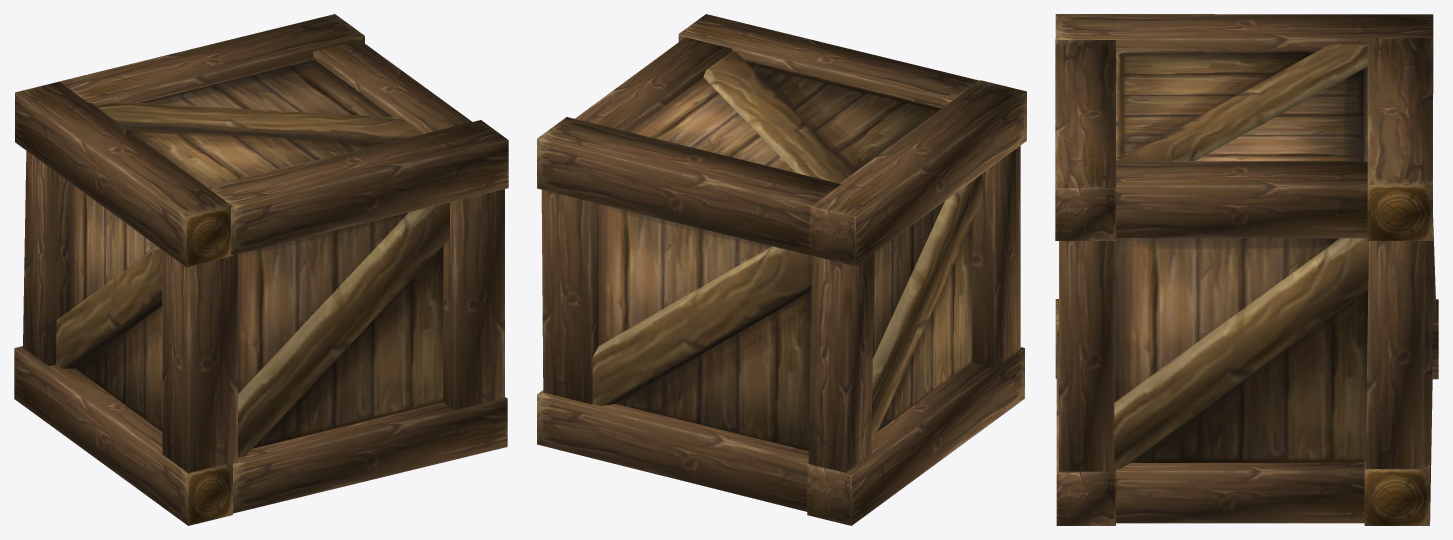
Rendered from Set_crate.FBX.
3 views of the same model, side by side, from view 1: azimuth 30°, elevation 25°; view 2: azimuth 150°, elevation 25°; view 3: azimuth 270°, elevation 25° (orthographic). The views are drawn at different scales.
Parts seen in each view (by area): view 1: stormwindcrate01_0; view 2: stormwindcrate01_0; view 3: stormwindcrate01_0.
Boxes of the visible parts, x1,y1,x2,y2 form: stormwindcrate01_0: [14, 14, 508, 525]; stormwindcrate01_0: [537, 14, 1026, 525]; stormwindcrate01_0: [1055, 14, 1438, 525].
Bounding box in the file's own units: 1.35 × 1.24 × 1.27.
1 material, 1 textured.
